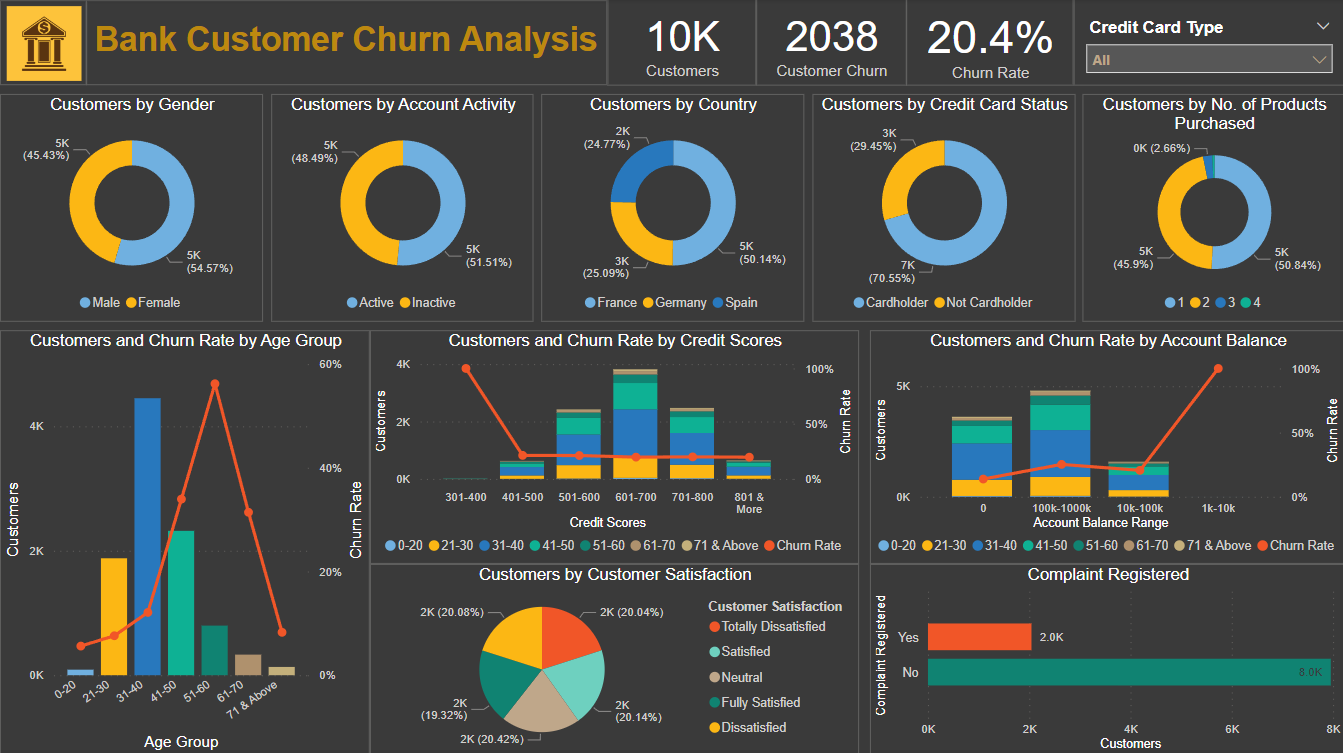

The dashboard page shown, as its layout file describes it:
{"tool":"powerbi","page":{"name":"Bank Customer Churn Analysis","canvas":[1280,720],"ordinal":0},"visuals":[{"type":"card","fields":{"Values":["Bank Customer Data.Customer Churn"]},"box":[720,0,142.8,82.1],"z":0},{"type":"card","fields":{"Values":["Bank Customer Data.Customers"]},"box":[578.4,0,141.6,82.1],"z":1000},{"type":"card","fields":{"Values":["Bank Customer Data.Churn Rate"]},"box":[862.8,0,159.5,82.1],"z":2000},{"type":"donutChart","fields":{"Category":["Bank Customer Data.Gender"],"Y":["Bank Customer Data.Customers"]},"box":[0,90.4,250.1,216.6],"z":3000,"group":"g1"},{"type":"lineStackedColumnComboChart","title":"Customers and Churn Rate by Age Group","fields":{"Category":["Bank Customer Data.Age Group"],"Y":["Bank Customer Data.Customers"],"Y2":["Bank Customer Data.Churn Rate"],"Series":["Age Groups Sorting.Age Group"]},"box":[0,315.4,352.3,404.6],"z":3000},{"type":"donutChart","fields":{"Y":["Bank Customer Data.Customers"],"Category":["Bank Customer Data.Account Activity"]},"box":[257.8,90.4,249.6,216.6],"z":4000,"group":"g1"},{"type":"slicer","fields":{"Values":["Bank Customer Data.Credit Card Type"]},"box":[1022.3,0,258.2,82.1],"z":4000},{"type":"donutChart","fields":{"Y":["Bank Customer Data.Customers"],"Category":["Bank Customer Data.Country"]},"box":[515.2,90.4,250.1,216.6],"z":5000,"group":"g1"},{"type":"barChart","title":"Complaint Registered","fields":{"Category":["Bank Customer Data.Complaint Registered"],"Y":["Bank Customer Data.Customers"]},"box":[828.3,537.9,452.2,182.1],"z":5000},{"type":"donutChart","fields":{"Y":["Bank Customer Data.Customers"],"Category":["Bank Customer Data.Credit Card Status"]},"box":[773.1,90.4,250.1,216.6],"z":6000,"group":"g1"},{"type":"pieChart","fields":{"Category":["Bank Customer Data.Customer Satisfaction"],"Y":["Bank Customer Data.Customers"]},"box":[352.3,537.9,465.3,182.1],"z":6000},{"type":"donutChart","fields":{"Y":["Bank Customer Data.Customers"],"Category":["Bank Customer Data.No. of Products Purchased"]},"box":[1030.9,90.4,250.1,216.6],"z":7000,"group":"g1"},{"type":"lineStackedColumnComboChart","title":"Customers and Churn Rate by Credit Scores","fields":{"Y":["Bank Customer Data.Customers"],"Y2":["Bank Customer Data.Churn Rate"],"Category":["Bank Customer Data.Credit Scores"],"Series":["Bank Customer Data.Age Group"]},"box":[352.3,315.4,465.3,222.5],"z":7000},{"type":"lineStackedColumnComboChart","title":"Customers and Churn Rate by Account Balance","fields":{"Y":["Bank Customer Data.Customers"],"Y2":["Bank Customer Data.Churn Rate"],"Series":["Age Groups Sorting.Age Group"],"Category":["Bank Customer Data.Account Balance Range"]},"box":[828.3,315.4,452.2,222.5],"z":8000},{"type":"group","id":"g1","title":"Group 1","box":[0,90.4,1280.5,216.6],"z":9000},{"type":"textbox","box":[82.1,1.2,496.3,80.9],"z":10000},{"type":"image","box":[0,1.2,82.1,80.9],"z":10002}]}

Visuals, with their boxes in screenshot pixels (x1, y1, x2, y2), scaled from the page's 1280x720 canvas onto the 1343x753 screenshot:
card - Bank Customer Data.Customer Churn: box(755, 0, 905, 86)
card - Bank Customer Data.Customers: box(607, 0, 755, 86)
card - Bank Customer Data.Churn Rate: box(905, 0, 1073, 86)
donutChart - Bank Customer Data.Gender x Bank Customer Data.Customers: box(0, 95, 262, 321)
"Customers and Churn Rate by Age Group" lineStackedColumnComboChart: box(0, 330, 370, 752)
donutChart - Bank Customer Data.Customers x Bank Customer Data.Account Activity: box(270, 95, 532, 321)
slicer - Bank Customer Data.Credit Card Type: box(1073, 0, 1342, 86)
donutChart - Bank Customer Data.Customers x Bank Customer Data.Country: box(541, 95, 803, 321)
"Complaint Registered" barChart: box(869, 563, 1342, 752)
donutChart - Bank Customer Data.Customers x Bank Customer Data.Credit Card Status: box(811, 95, 1074, 321)
pieChart - Bank Customer Data.Customer Satisfaction x Bank Customer Data.Customers: box(370, 563, 858, 752)
donutChart - Bank Customer Data.Customers x Bank Customer Data.No. of Products Purchased: box(1082, 95, 1342, 321)
"Customers and Churn Rate by Credit Scores" lineStackedColumnComboChart: box(370, 330, 858, 563)
"Customers and Churn Rate by Account Balance" lineStackedColumnComboChart: box(869, 330, 1342, 563)
"Group 1" group: box(0, 95, 1342, 321)
textbox: box(86, 1, 607, 86)
image: box(0, 1, 86, 86)
